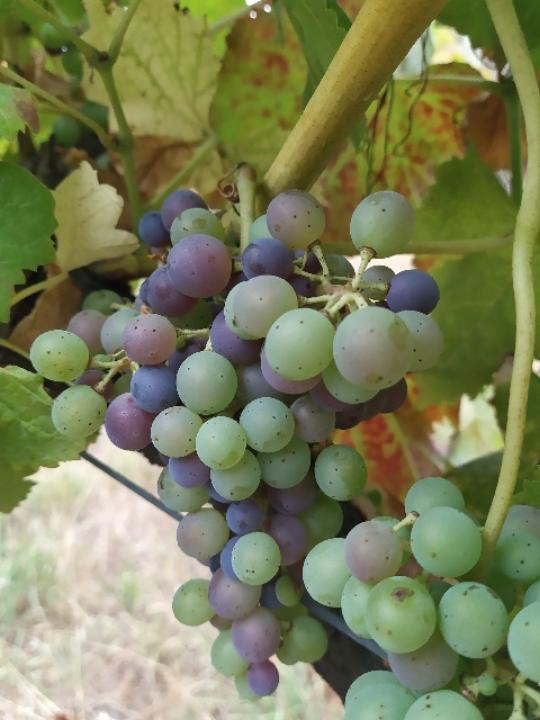grape: (25, 184, 446, 709)
